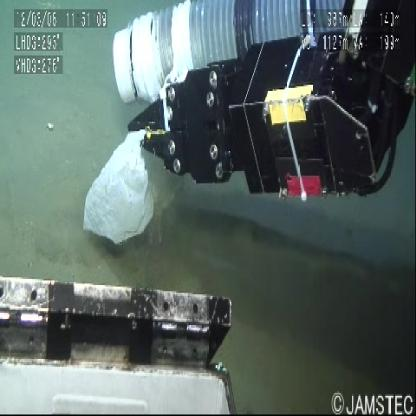Rov: (112, 2, 416, 214), (1, 263, 245, 416)
Rác: (77, 126, 166, 245)
